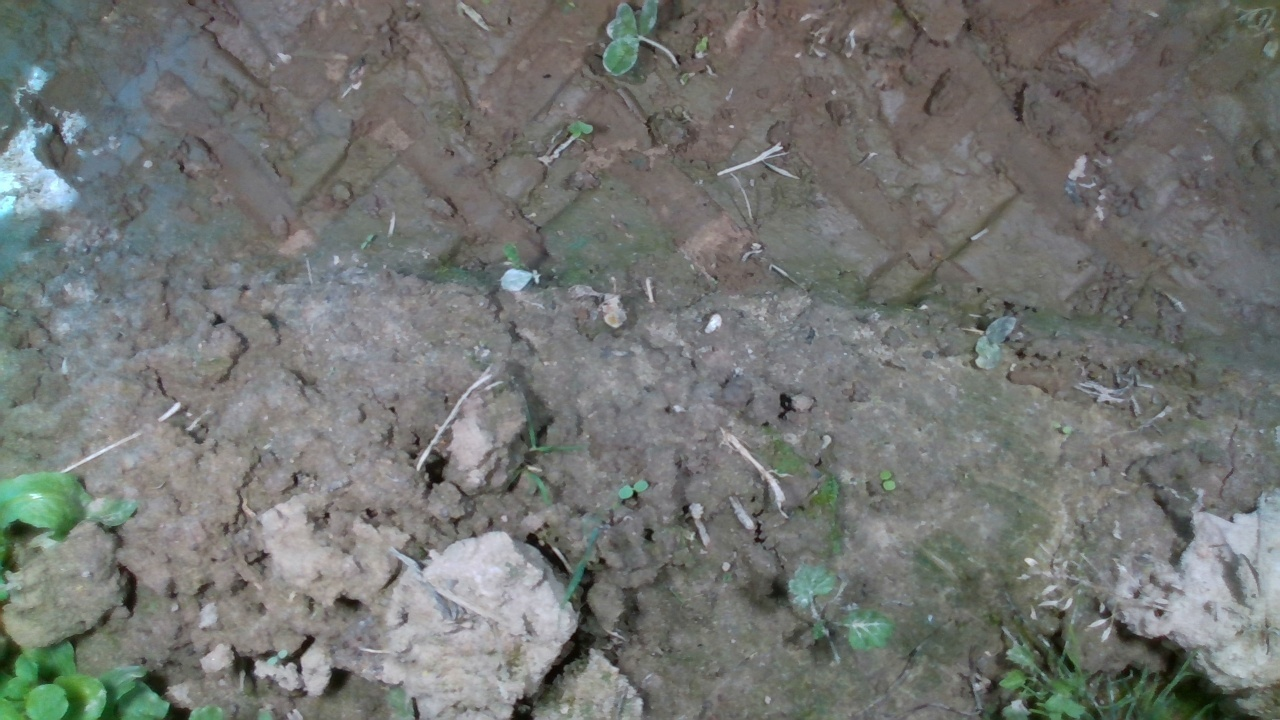weed: (616, 476, 649, 501), (878, 468, 897, 493)
